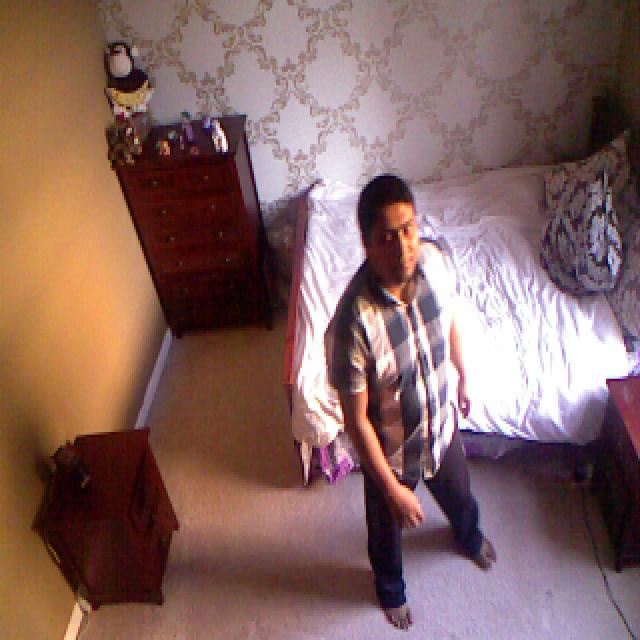standing: (327, 175, 504, 633)
